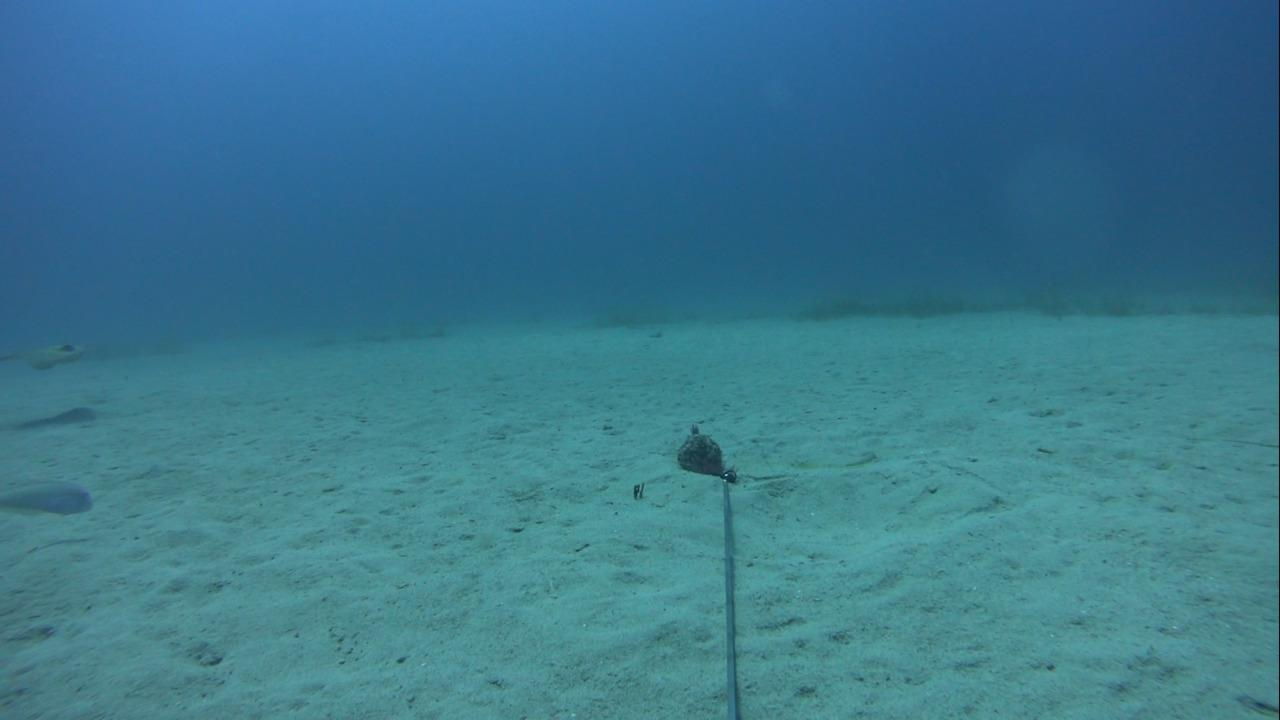myliobatis: (1, 338, 86, 382)
raor: (1, 480, 97, 521)
